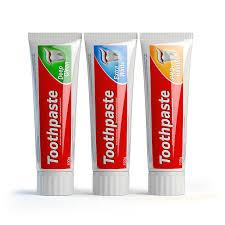toothpaste: (139, 28, 197, 197), (81, 28, 139, 196), (28, 31, 80, 198)
